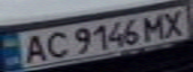1: (90, 21, 112, 51)
4: (106, 18, 127, 48)
6: (121, 16, 145, 45)
9: (69, 25, 93, 55)
A: (15, 33, 51, 65)
C: (39, 29, 72, 61)
M: (139, 11, 172, 42)
X: (157, 7, 190, 37)
